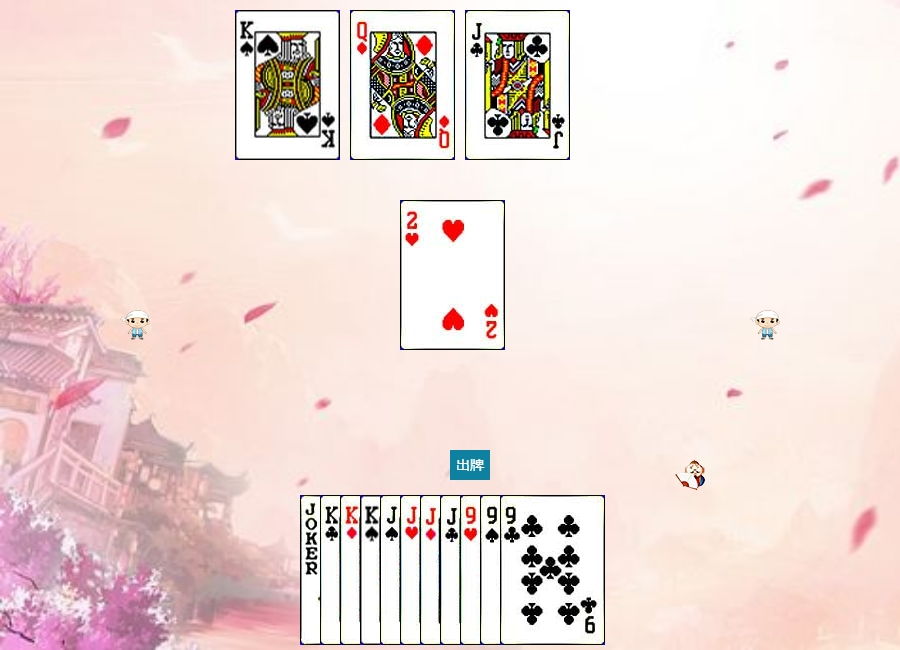11~1: (420, 495, 525, 645)
11~2: (465, 10, 570, 160), (440, 495, 545, 645)
11~3: (400, 495, 505, 645)
11~4: (380, 495, 485, 645)
12~1: (350, 10, 455, 160)
13~1: (340, 495, 445, 645)
13~2: (320, 495, 425, 645)
13~4: (235, 10, 340, 160), (360, 495, 465, 645)
15~3: (400, 200, 505, 350)
17~3: (300, 495, 405, 645)
9~2: (500, 495, 605, 645)
9~3: (460, 495, 565, 645)
9~4: (480, 495, 585, 645)
